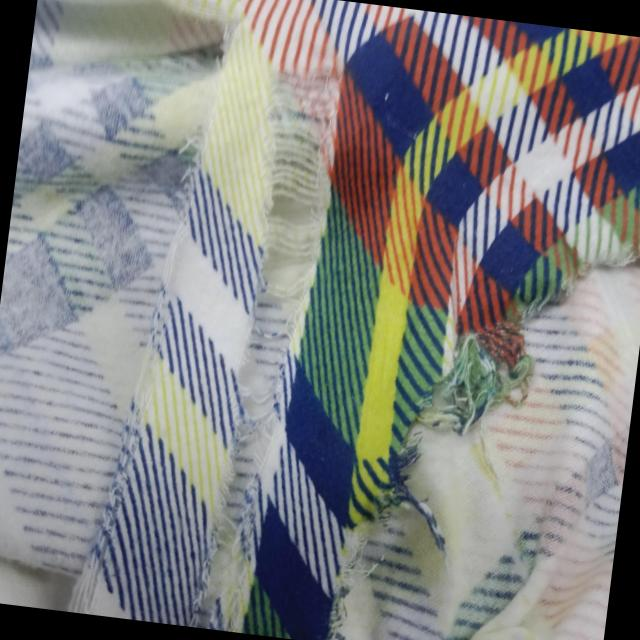cut: (373, 208, 634, 578), (192, 46, 353, 634), (55, 0, 253, 344)
